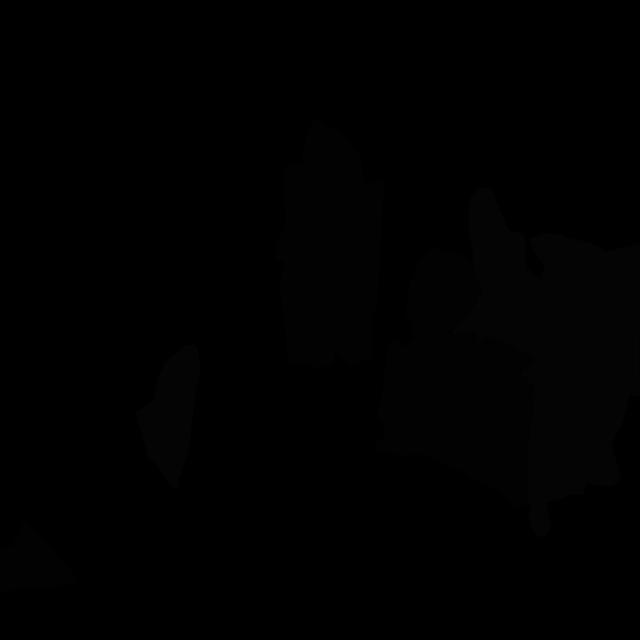cardboard: (376, 331, 534, 507), (275, 117, 384, 368), (406, 248, 482, 354), (0, 522, 80, 592)
soft_plastic: (521, 233, 640, 487), (452, 187, 549, 359), (136, 345, 201, 490), (526, 390, 586, 538), (630, 240, 640, 396)
